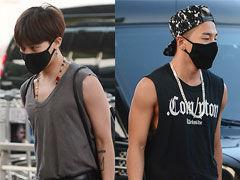OK: (182, 30, 219, 69), (19, 41, 53, 75)
